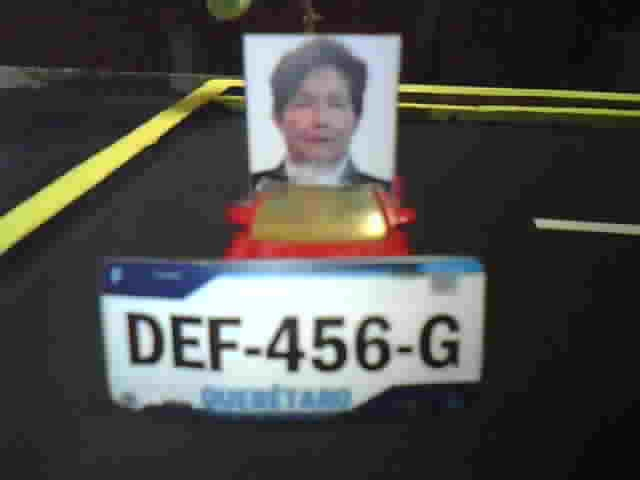PLACA: (95, 253, 489, 424)
ROSTRO: (248, 34, 395, 194)
